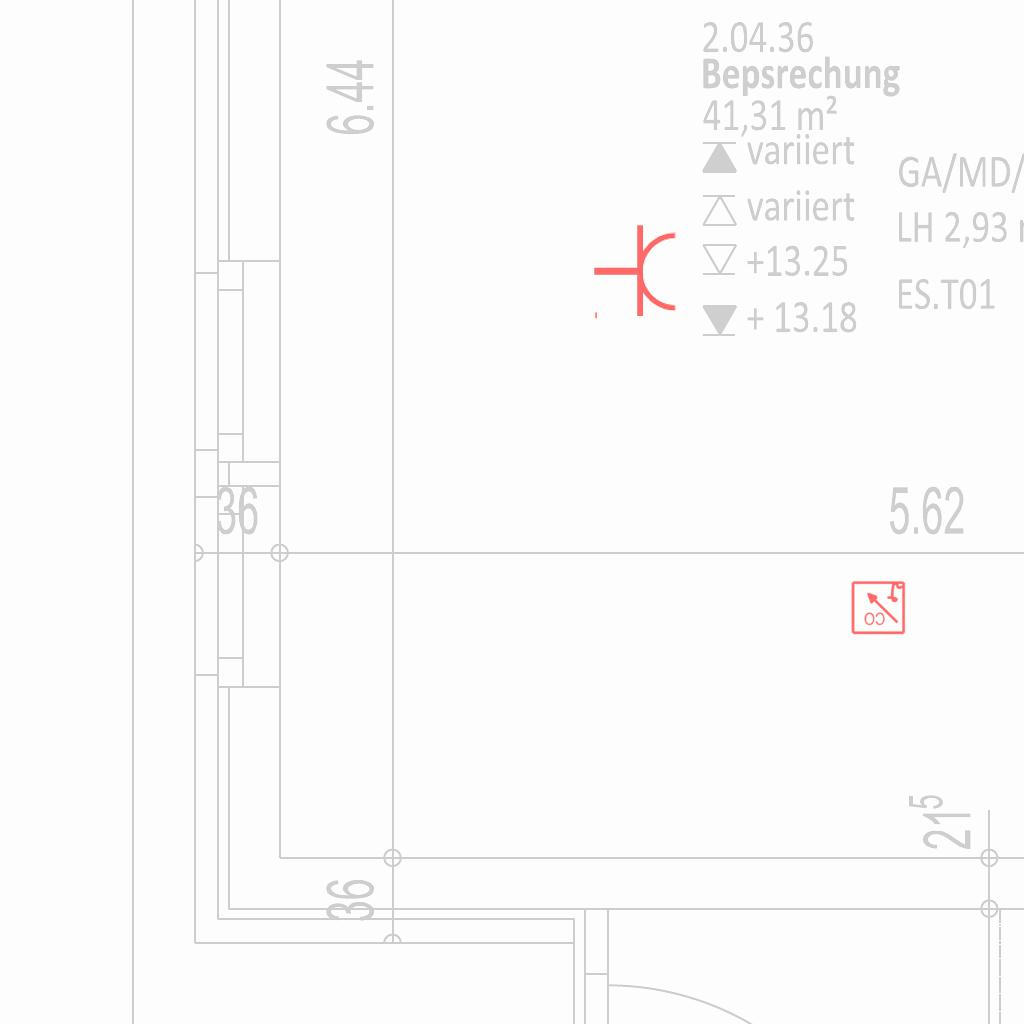ROA_Rauchmelder_optisch_mit_Signalgeber_(Sockelsirene): (850, 579, 906, 635)
Schukosteckdose_einfach: (592, 223, 679, 323)
